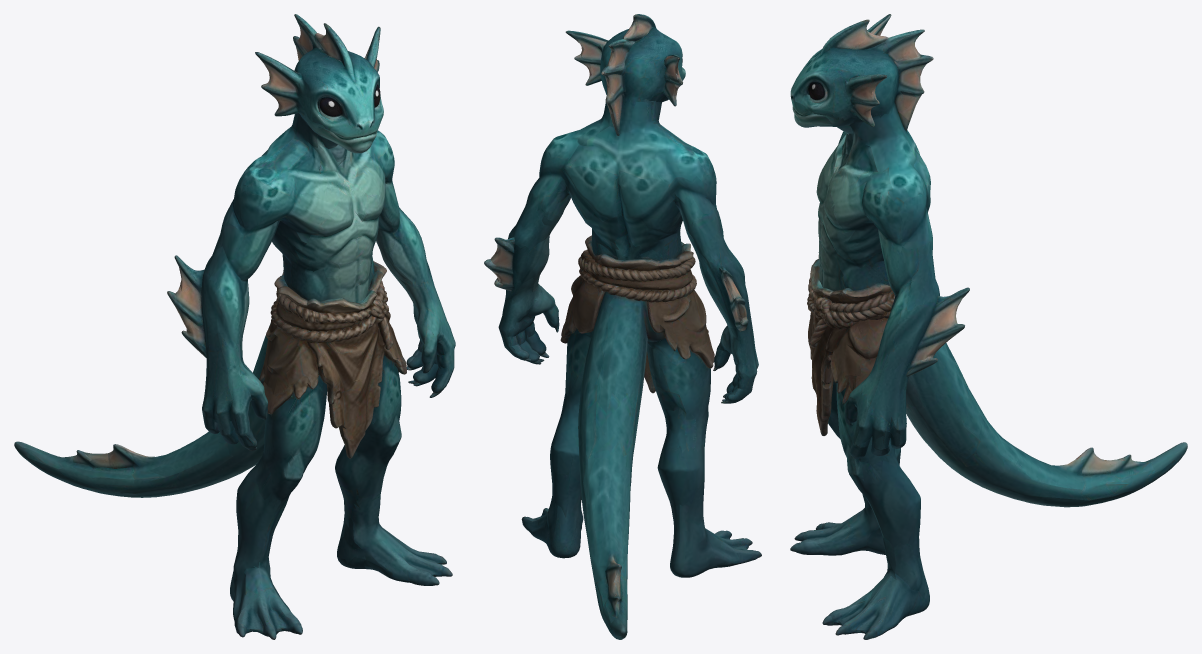
File: fishfolk_scout.glb
The picture shows the model from 3 angles, left to right: view 1: azimuth 30°, elevation 25°; view 2: azimuth 150°, elevation 25°; view 3: azimuth 270°, elevation 25°; orthographic projection. The views are drawn at different scales.
Visible parts, largest first — view 1: Mesh_0; view 2: Mesh_0; view 3: Mesh_0.
Boxes of the visible parts, x1,y1,x2,y2 form: Mesh_0: [14, 14, 455, 639]; Mesh_0: [484, 14, 761, 639]; Mesh_0: [790, 14, 1187, 639].
Bounding box in the file's own units: 0.9839 × 1.9 × 1.22.
Materials: 1 (1 with a texture image).
